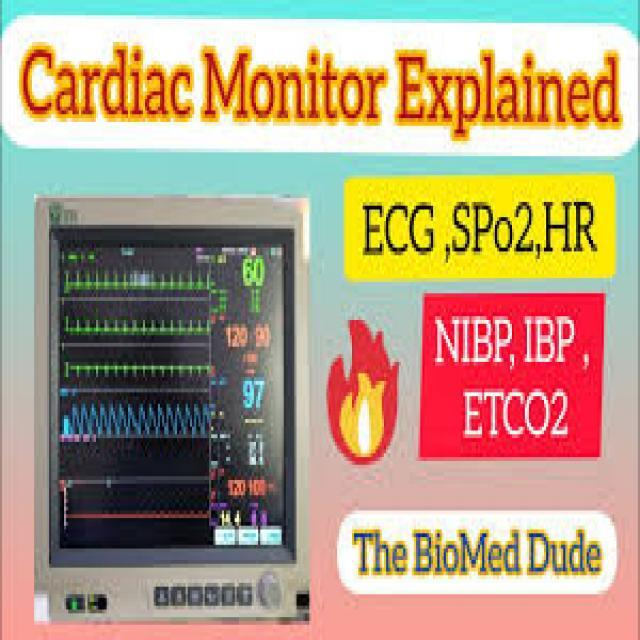cardiac_monitor: (43, 206, 322, 630)
